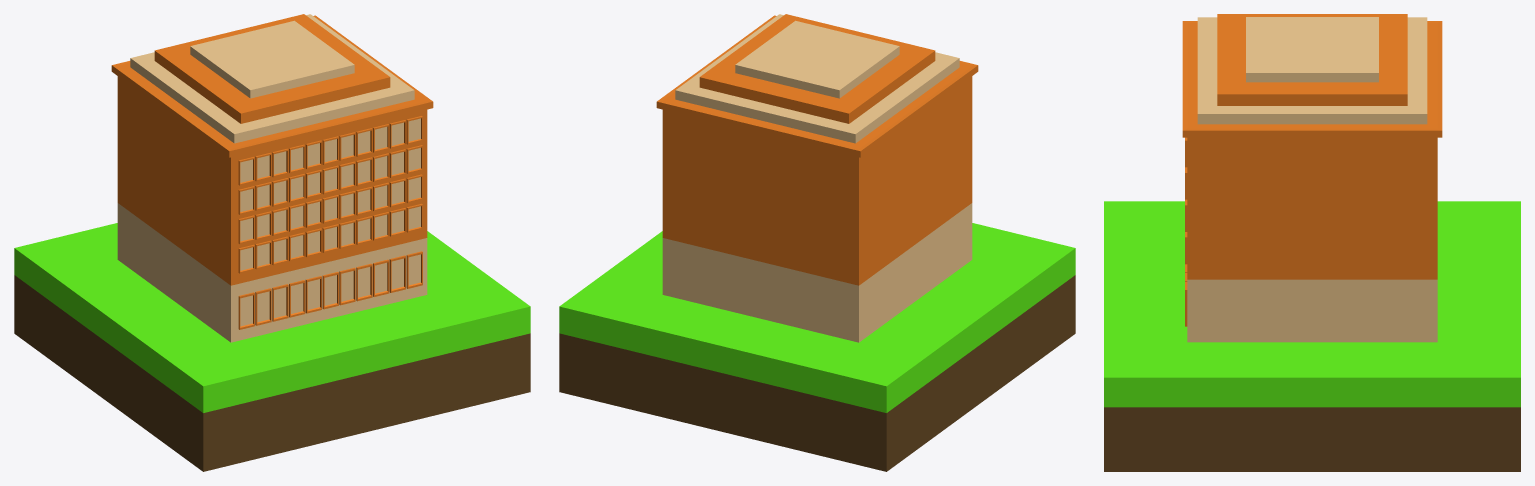
File: Bricks128.glb
3 views of the same model, side by side, from view 1: azimuth 30°, elevation 25°; view 2: azimuth 150°, elevation 25°; view 3: azimuth 270°, elevation 25° (orthographic). The views are drawn at different scales.
Visible parts, largest first — view 1: Brick8, Cube; view 2: Brick8, Cube; view 3: Brick8, Cube.
Boxes of the visible parts, x1,y1,x2,y2 form: Brick8: [111, 14, 433, 342]; Cube: [14, 223, 530, 471]; Brick8: [656, 14, 978, 342]; Cube: [559, 223, 1075, 471]; Brick8: [1182, 14, 1442, 342]; Cube: [1104, 201, 1520, 471].
Size of the model in its own units: 2 by 1.79 by 2.
